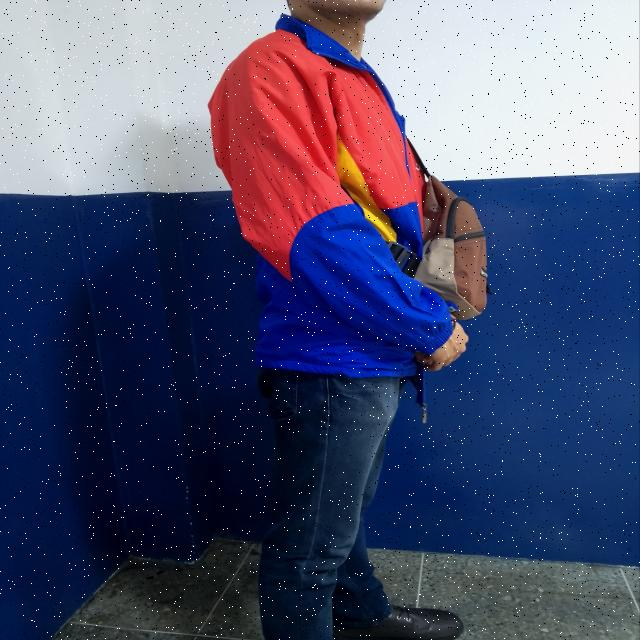chaqueta_unefa: (207, 14, 457, 380)
pantalon_oscuro: (252, 371, 402, 640)
